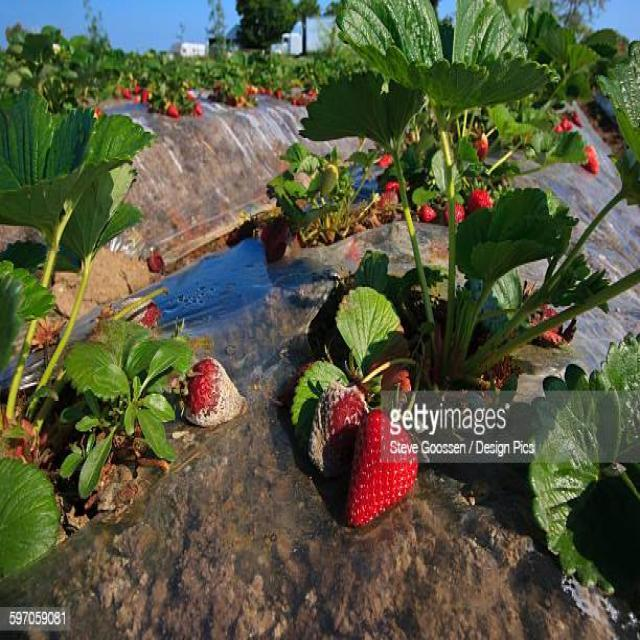Fruta sana: (350, 417, 420, 535), (470, 187, 493, 217), (580, 139, 598, 174), (446, 200, 466, 224), (416, 202, 437, 222), (476, 131, 488, 160), (386, 180, 404, 196), (166, 103, 179, 121), (124, 86, 134, 102), (183, 91, 196, 102), (194, 100, 202, 115), (140, 88, 149, 101)
Moho gris: (306, 368, 362, 474), (176, 350, 247, 430), (120, 297, 164, 334)
